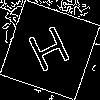H: (25, 25, 78, 82)
